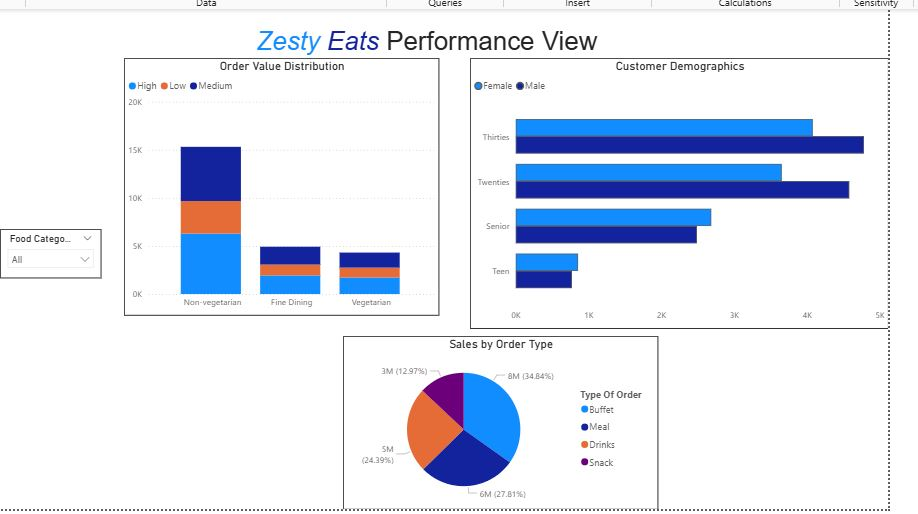

What the dashboard file says about the page in this screenshot:
{"tool":"powerbi","page":{"name":"Charts","canvas":[1280,720],"ordinal":1},"visuals":[{"type":"textbox","box":[364.5,20.2,532.5,68.9],"z":0},{"type":"slicer","fields":{"Values":["Restaurant_details.Food Category"]},"box":[0,317.5,146.1,70.6],"z":1000},{"type":"columnChart","title":"Order Value Distribution","fields":{"Category":["Restaurant_details.Food Category"],"Series":["Order_details.Order Value Category"],"Y":["CountNonNull(Order_details.Order Id)"]},"box":[178.1,70.6,453.5,371.2],"z":2000},{"type":"clusteredBarChart","title":"Customer Demographics","fields":{"Category":["User_details.Age group"],"Series":["User_details.Gender"],"Y":["CountNonNull(Order_details.Customer ID)"]},"box":[677,70.6,603,389.7],"z":3000},{"type":"pieChart","title":"Sales by Order Type","fields":{"Category":["Order_details.Type Of Order"],"Y":["Order_details.Total Sales"]},"box":[493.9,470.3,453.5,250.3],"z":4000}]}

Visuals, with their boxes on the page's 1280x720 design canvas (x1, y1, x2, y2). These are canvas units, not pixel positions in the 918x514 screenshot, which may show the page scaled, cropped or inside an application window:
textbox: box(364, 20, 897, 89)
slicer - Restaurant_details.Food Category: box(0, 318, 146, 388)
"Order Value Distribution" columnChart: box(178, 71, 632, 442)
"Customer Demographics" clusteredBarChart: box(677, 71, 1280, 460)
"Sales by Order Type" pieChart: box(494, 470, 947, 721)
